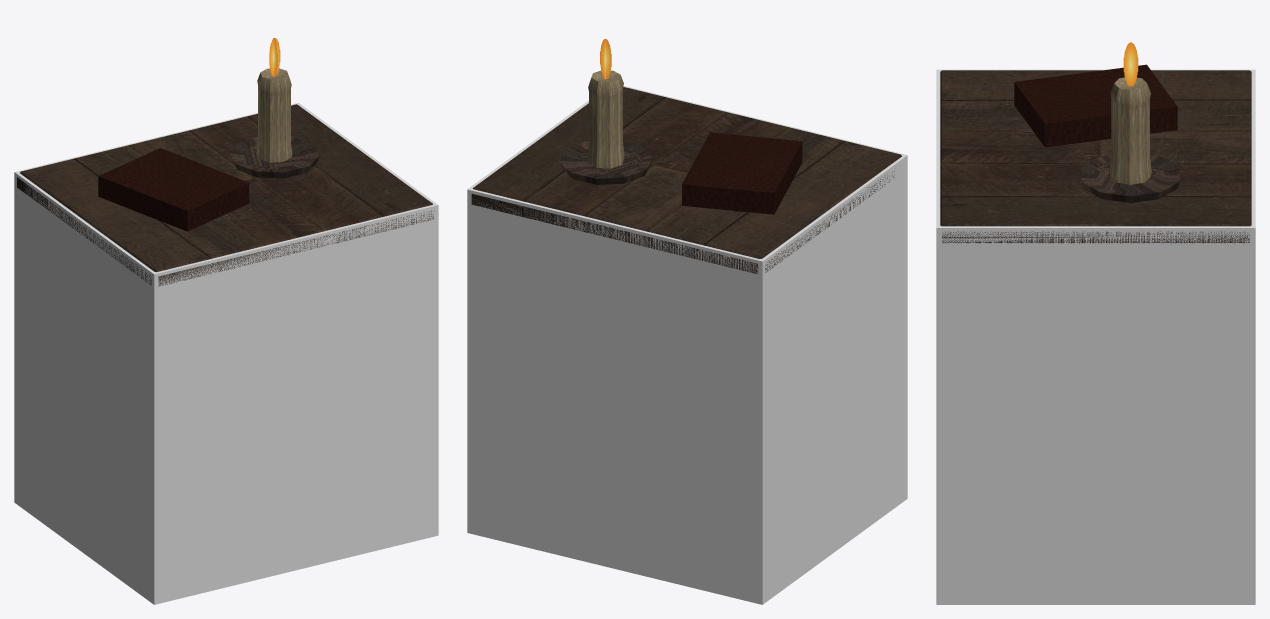
The model's file is nightstand.glb.
3 views of the same model, side by side, from view 1: azimuth 30°, elevation 25°; view 2: azimuth 150°, elevation 25°; view 3: azimuth 270°, elevation 25° (orthographic). The views are drawn at different scales.
Visible parts, largest first — view 1: col_nightstand, nightstand_body; view 2: col_nightstand, nightstand_body; view 3: col_nightstand, nightstand_body.
Part boxes in pixels (x1,y1,x2,y2): col_nightstand: [14, 103, 438, 604]; nightstand_body: [17, 38, 433, 286]; col_nightstand: [467, 86, 907, 604]; nightstand_body: [471, 39, 901, 273]; col_nightstand: [936, 69, 1255, 604]; nightstand_body: [940, 42, 1251, 243].
Bounding box in the file's own units: 0.54 × 0.8588 × 0.46.
6 materials, 6 textured.
